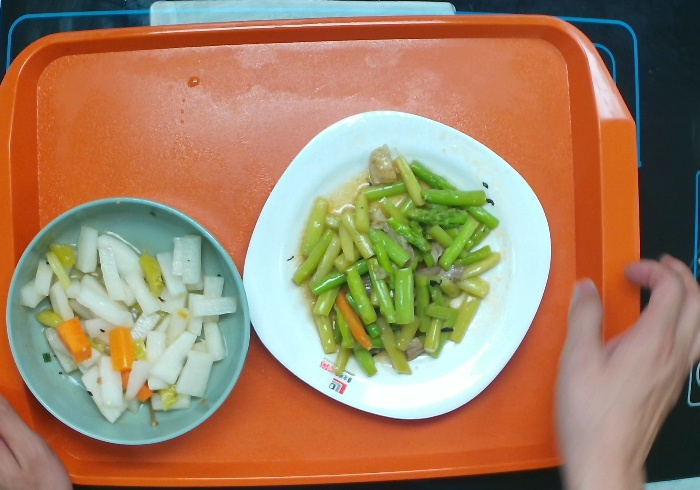ZNLD-Qing_Hua_Yuan_Wan: (4, 194, 254, 449)
ZNLD-Yuan_Jiao_Pan: (242, 109, 555, 424)
